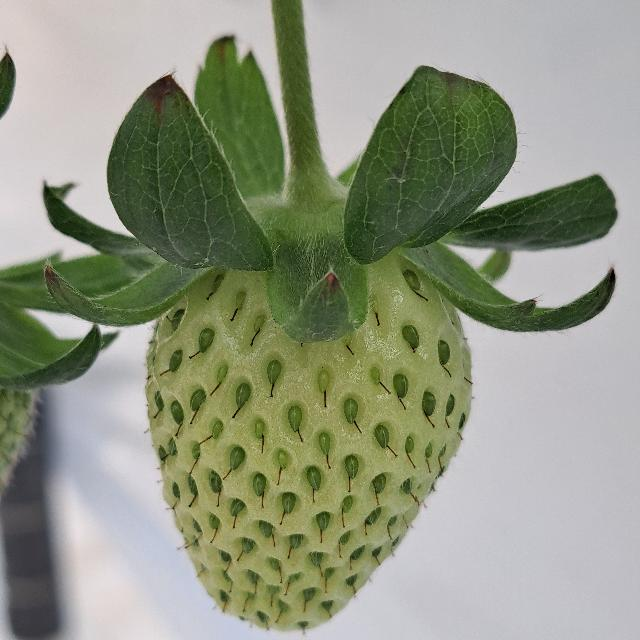Health_25: (144, 249, 472, 631)
